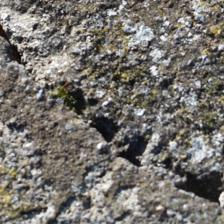Crack: (70, 93, 221, 208)
